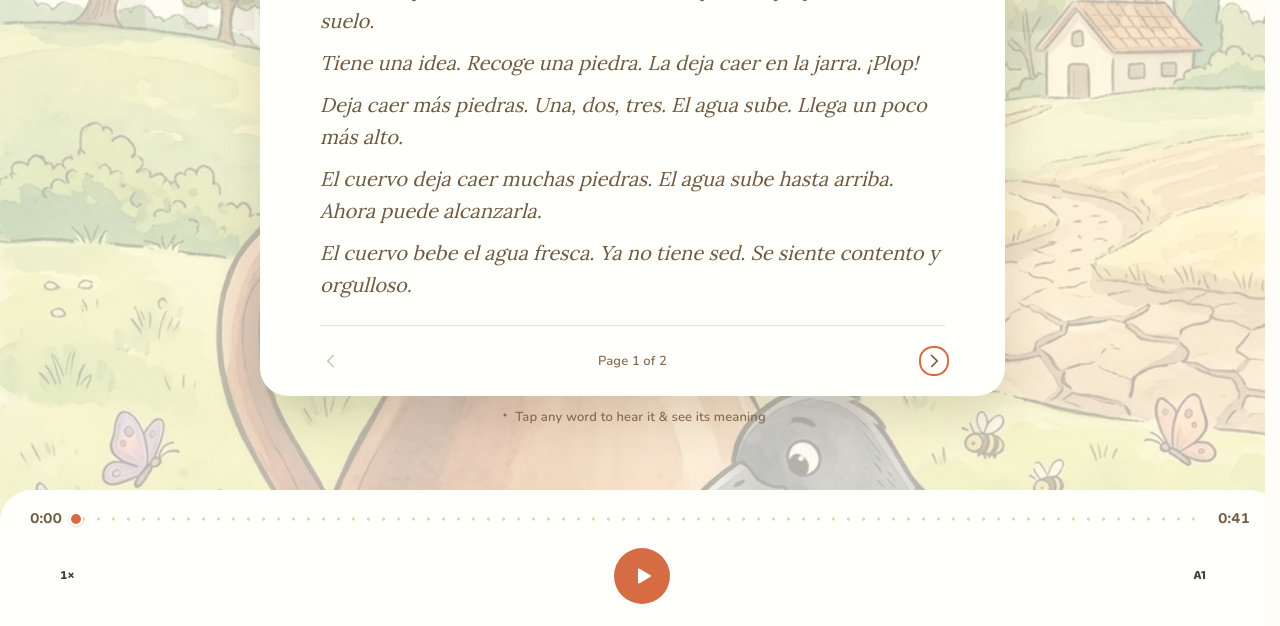
Test: ReaderScreen › keeps focus on a page chevron across a turn and announces the page in place
(page scrolled)
Expected: the element showing "Page 1 of 2" is shown, left=598, top=352, right=667, bottom=370
Click the button named "Next page". click: (934, 361)
box: left=923, top=350, right=945, bottom=372
(page scrolled)
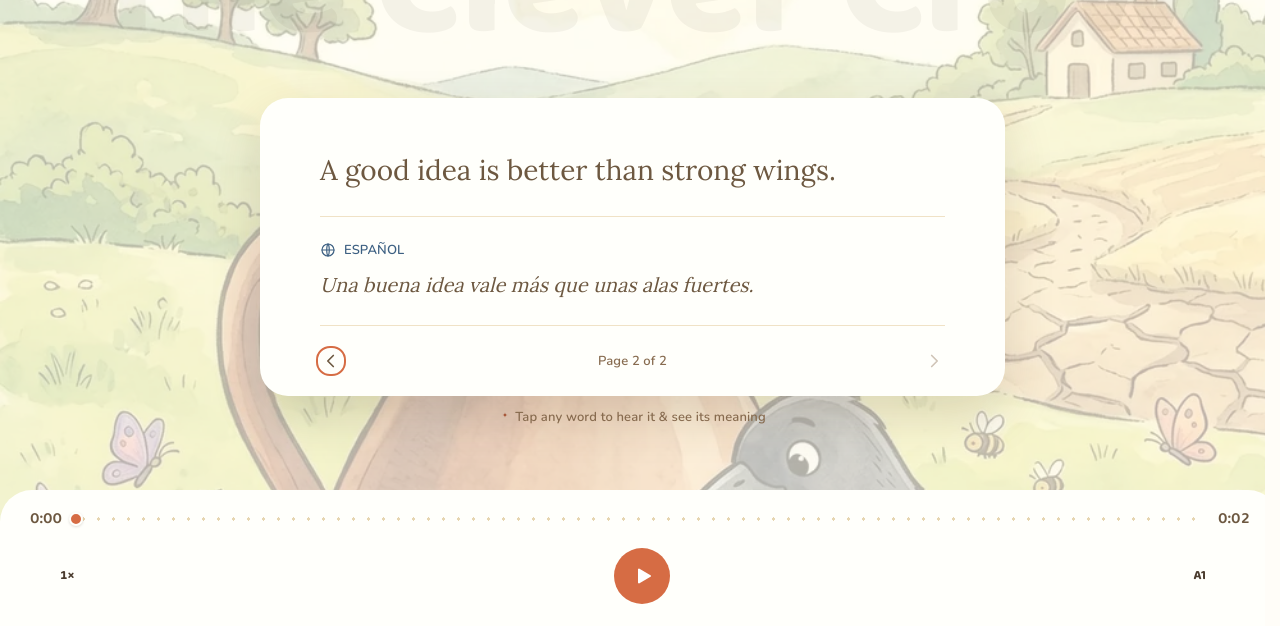
Result: the element showing "Page 2 of 2" is shown at left=598, top=352, right=667, bottom=370
